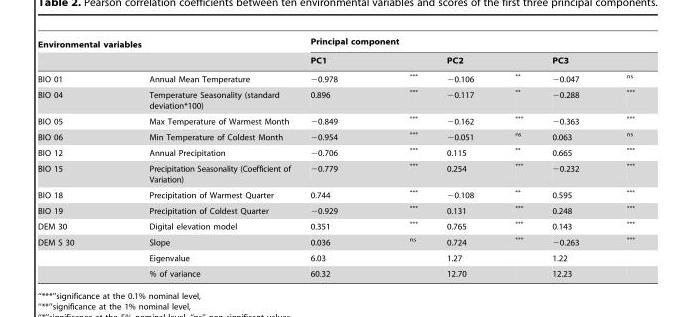table: (37, 36, 634, 277)
table column: (110, 36, 299, 277), (37, 36, 110, 277), (299, 36, 372, 277), (536, 36, 602, 277), (431, 36, 493, 277), (372, 36, 431, 277), (493, 36, 536, 277), (602, 36, 634, 277)
table column header: (37, 36, 634, 86)
table row: (37, 159, 634, 186), (37, 86, 634, 112), (37, 68, 634, 86), (37, 233, 634, 250), (37, 36, 634, 52), (37, 52, 634, 68), (37, 112, 634, 128), (37, 143, 634, 159), (37, 201, 634, 217), (37, 217, 634, 233), (37, 128, 634, 143), (37, 186, 634, 201), (37, 250, 634, 265), (37, 265, 634, 277)
table spanning cell: (110, 52, 299, 86), (299, 36, 634, 52), (37, 36, 299, 52), (37, 233, 110, 277), (37, 52, 110, 86), (299, 52, 431, 68), (431, 52, 536, 68), (536, 52, 634, 68)
